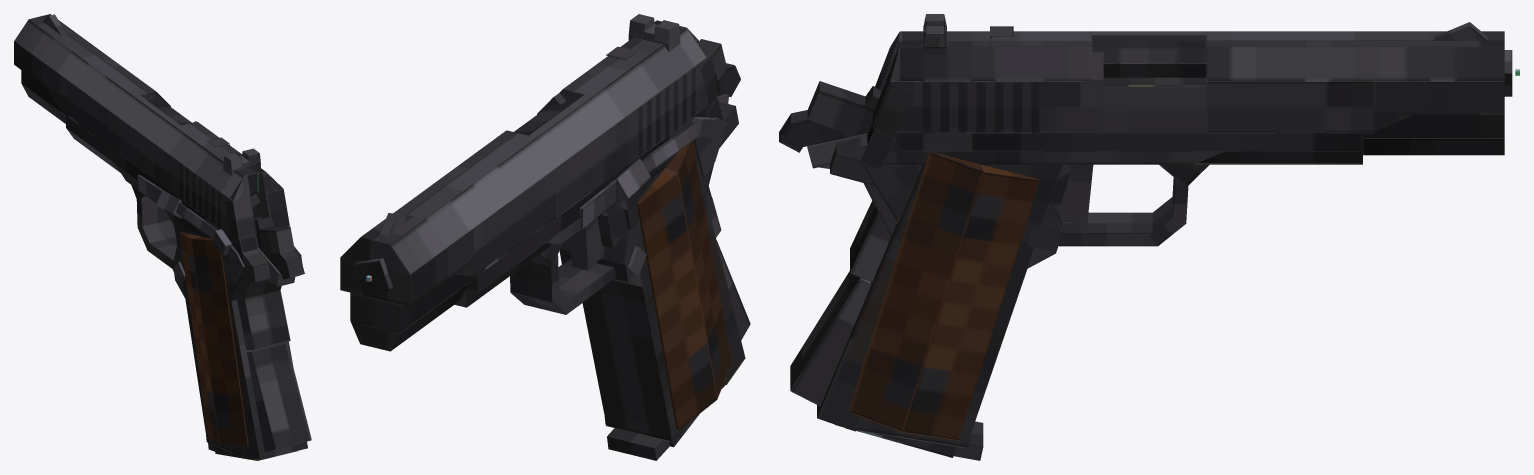
3 renders of one model, left to right at view 1: azimuth 30°, elevation 25°; view 2: azimuth 150°, elevation 25°; view 3: azimuth 270°, elevation 25°, orthographic. The views are drawn at different scales.
Visible parts, largest first — view 1: gun_49, slide_45, hammer_4; view 2: gun_49, slide_45, magazine_1, hammer_4; view 3: gun_49, slide_45, hammer_4, magazine_1.
Part boxes in pixels (box(x1,y1,x2,y2)): gun_49: box(66, 99, 311, 459); slide_45: box(14, 14, 289, 238); hammer_4: box(255, 216, 304, 279); gun_49: box(353, 94, 750, 441); slide_45: box(340, 14, 720, 351); magazine_1: box(607, 414, 699, 460); hammer_4: box(700, 39, 740, 96); gun_49: box(790, 40, 1512, 448); slide_45: box(872, 14, 1504, 155); hammer_4: box(779, 81, 882, 152); magazine_1: box(834, 421, 983, 460).
Size of the model in its own units: 0.2939 by 1.24 by 1.96.
